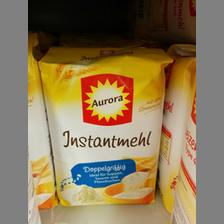Mehl: (37, 44, 171, 204)
